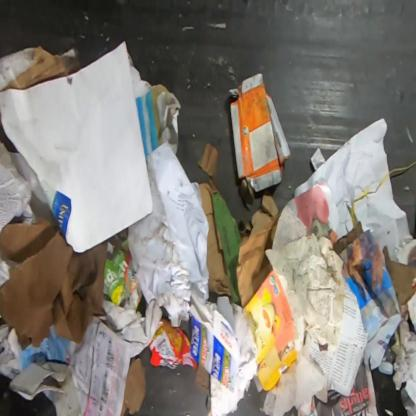cardboard: (197, 142, 280, 306), (228, 72, 291, 206), (242, 268, 298, 394), (190, 292, 241, 394), (0, 44, 83, 94), (103, 239, 143, 314)
rigid_plastic: (378, 345, 396, 376)
soft_plastic: (148, 317, 198, 371)
